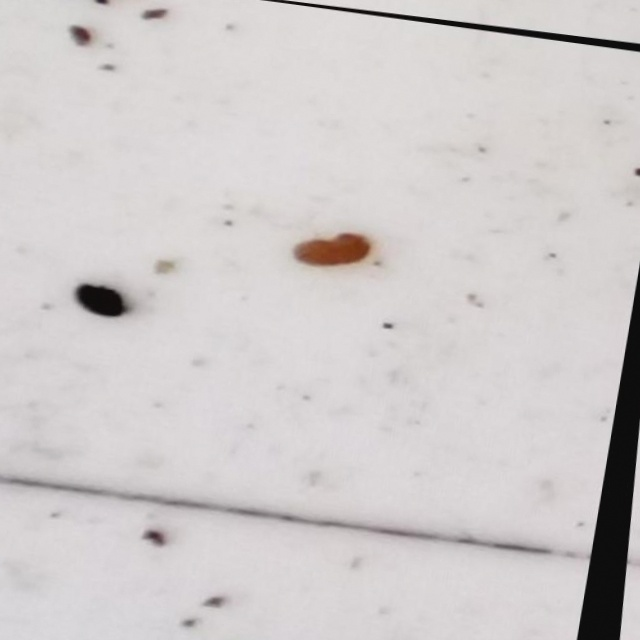varroa: (76, 282, 136, 322)
